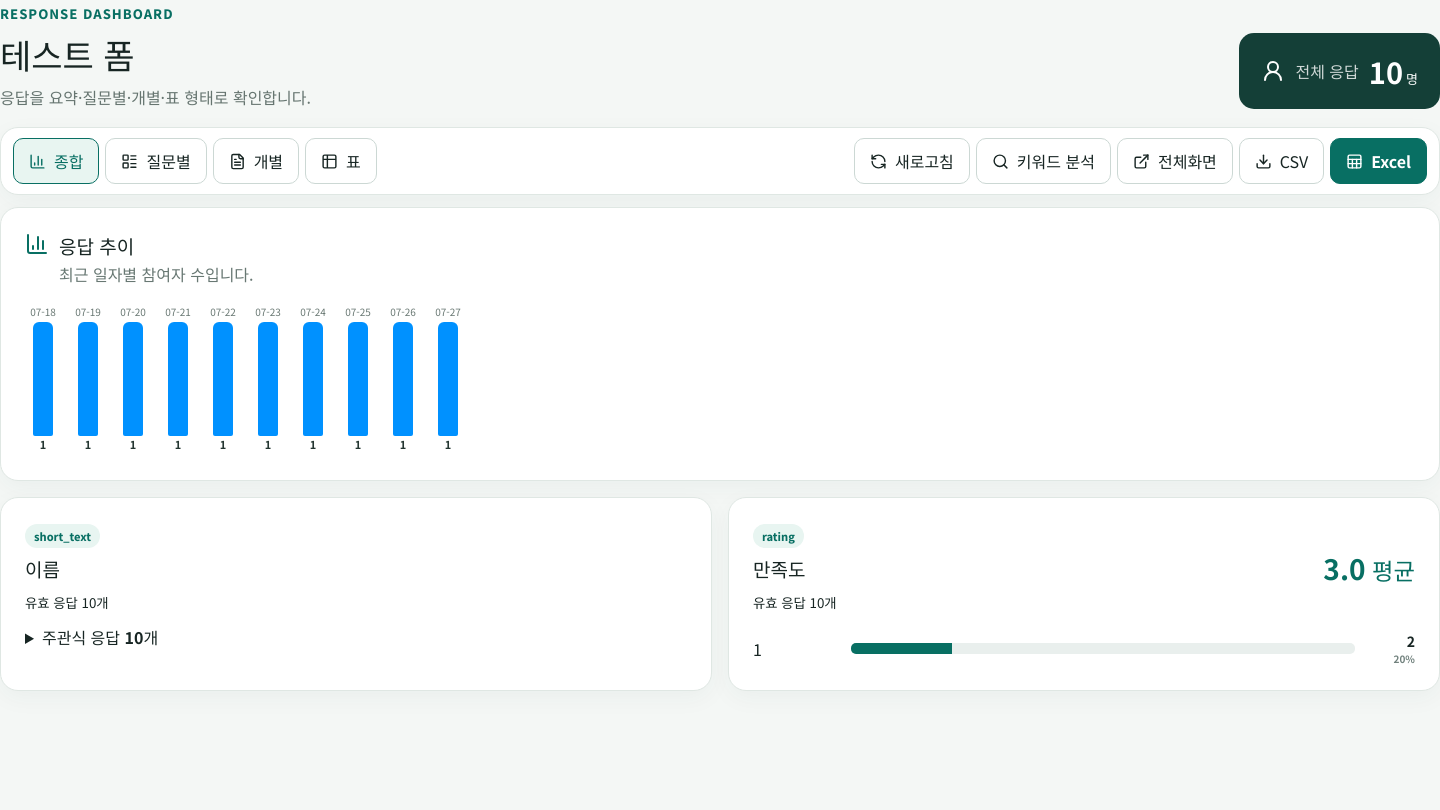
Scenario: ResultsDashboard › switches to an individual response and provides print/PDF action
Click the tab "개별" at (256, 161), box [213, 138, 299, 184]
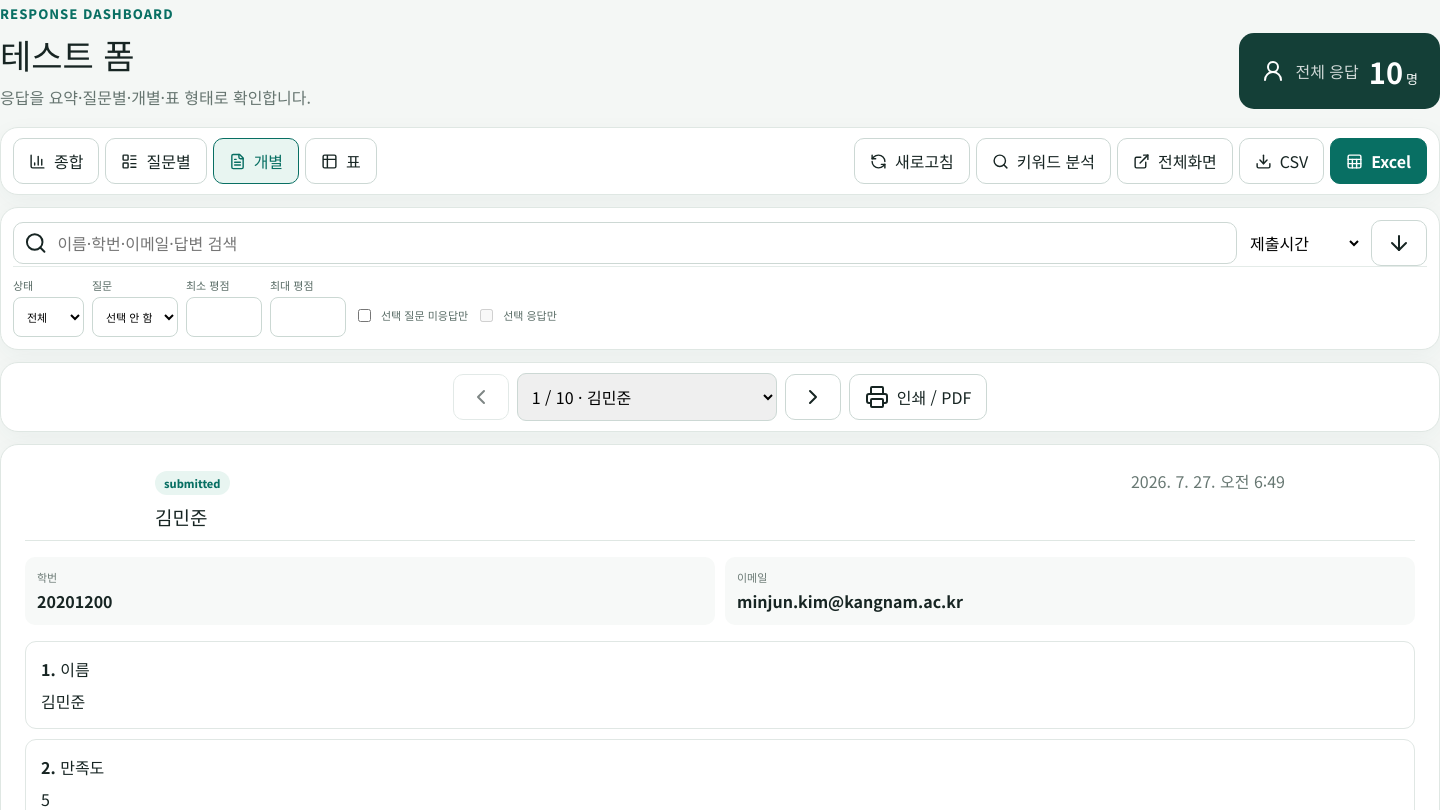
Expected: the button "인쇄 / PDF" is shown, [849, 374, 987, 420]
Expected: the text "20201200" is shown, [37, 589, 112, 613]
